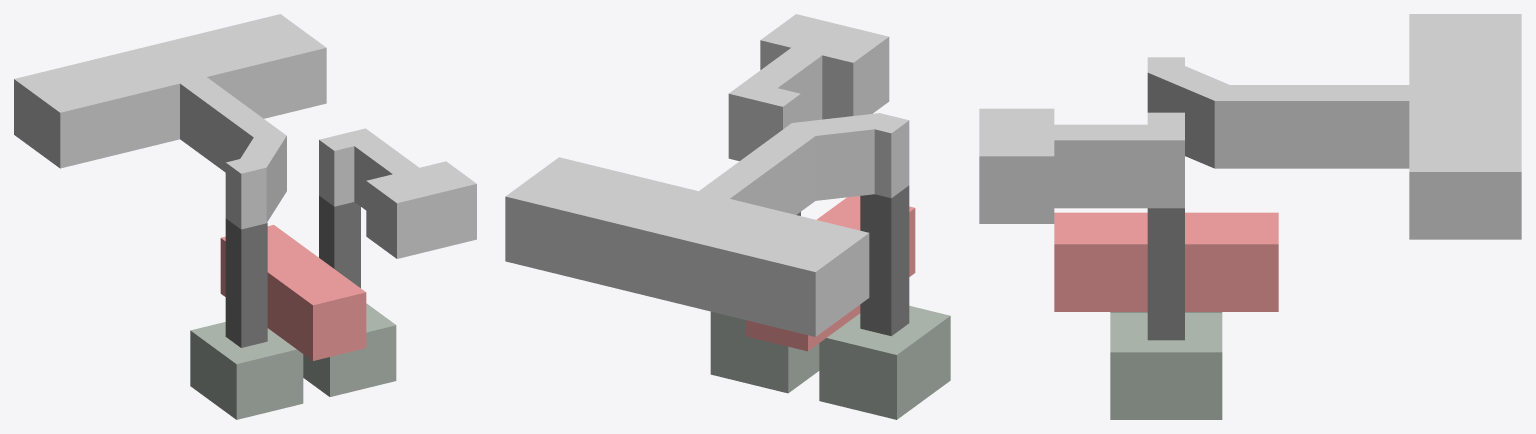
Rendered from board.glb.
3 renders of one model, left to right at view 1: azimuth 30°, elevation 25°; view 2: azimuth 150°, elevation 25°; view 3: azimuth 270°, elevation 25°, orthographic. The views are drawn at different scales.
Visible parts, largest first — view 1: Copper_Net3_Contour0 (×3), Copper_Net2_Contour0 (×3), Copper_Net1_Contour0; view 2: Copper_Net3_Contour0 (×3), Copper_Net2_Contour0 (×2), Copper_Net1_Contour0; view 3: Copper_Net3_Contour0, Copper_Net2_Contour0 (×3), Copper_Net1_Contour0.
Boxes of the visible parts, x1,y1,x2,y2 form: Copper_Net3_Contour0 (×3): (14, 14, 326, 419); Copper_Net2_Contour0 (×3): (303, 128, 476, 396); Copper_Net1_Contour0: (220, 225, 366, 360); Copper_Net3_Contour0 (×3): (505, 113, 950, 419); Copper_Net2_Contour0 (×2): (710, 14, 889, 393); Copper_Net1_Contour0: (746, 196, 915, 351); Copper_Net3_Contour0: (1147, 14, 1521, 239); Copper_Net2_Contour0 (×3): (979, 108, 1222, 419); Copper_Net1_Contour0: (1054, 212, 1278, 311).
Size of the model in its own units: 2e-06 by 1.65e-06 by 2.9e-06.
